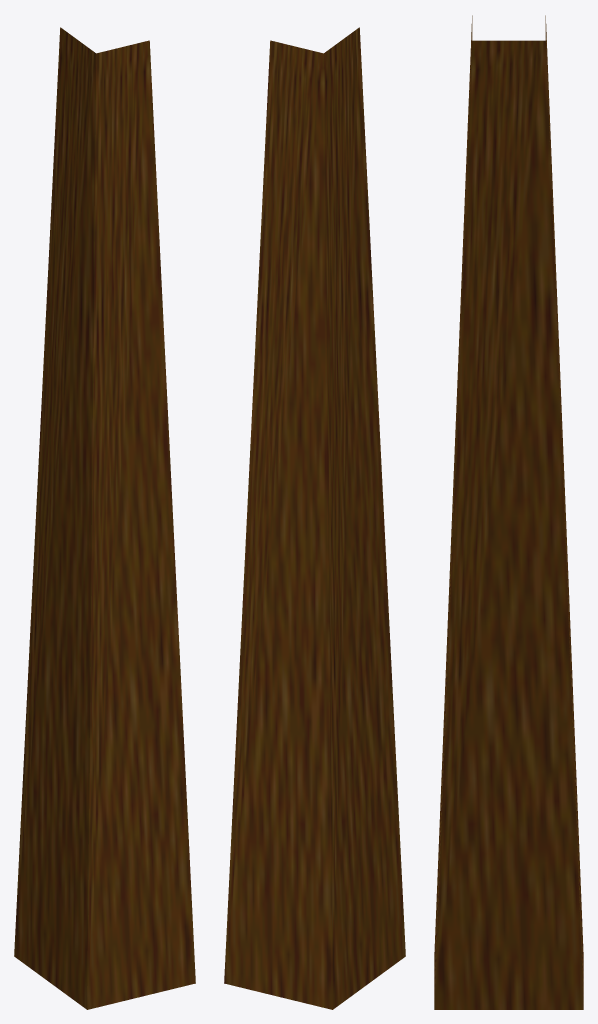
The model's file is tree22.glb.
3 views of the same model, side by side, from view 1: azimuth 30°, elevation 25°; view 2: azimuth 150°, elevation 25°; view 3: azimuth 270°, elevation 25° (orthographic). The views are drawn at different scales.
Parts seen in each view (by area): view 1: tree22; view 2: tree22; view 3: tree22.
Boxes of the visible parts, box(x1,y1,x2,y2) form: tree22: box(14, 27, 195, 1009); tree22: box(224, 27, 405, 1009); tree22: box(434, 15, 583, 1009).
Bounding box in the file's own units: 43.51 × 358 × 50.76.
1 material, 1 textured.
